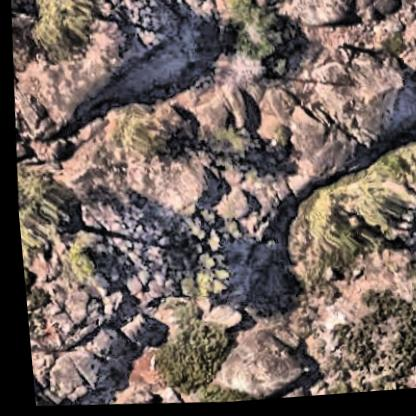tree-top: (294, 186, 404, 271), (142, 309, 233, 399), (12, 0, 111, 76), (212, 0, 297, 75), (101, 97, 171, 160), (59, 239, 105, 292)
